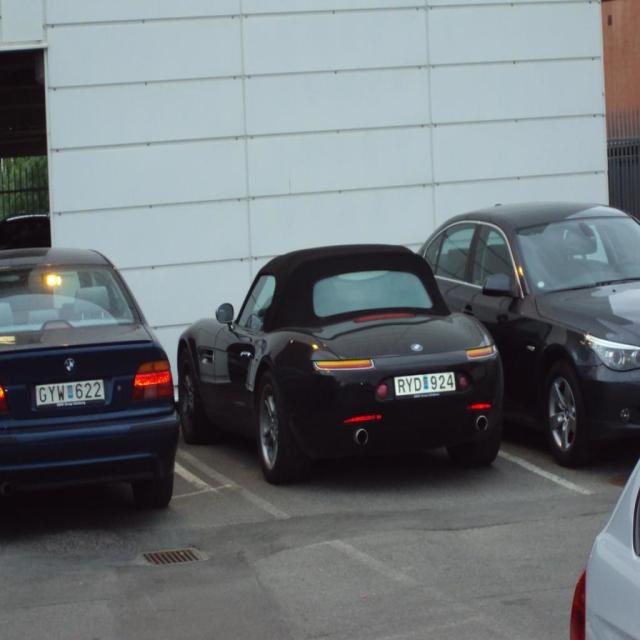car: (177, 239, 500, 484)
